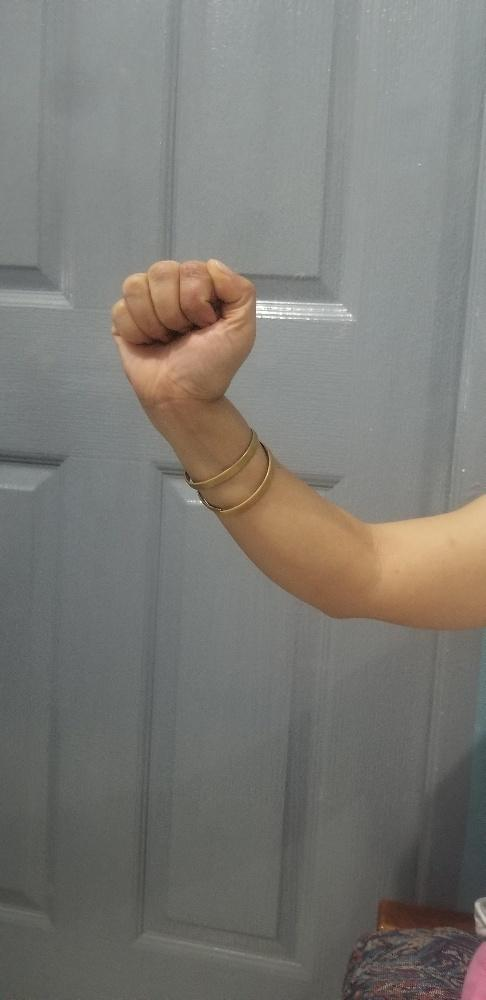a: (110, 254, 257, 399)
